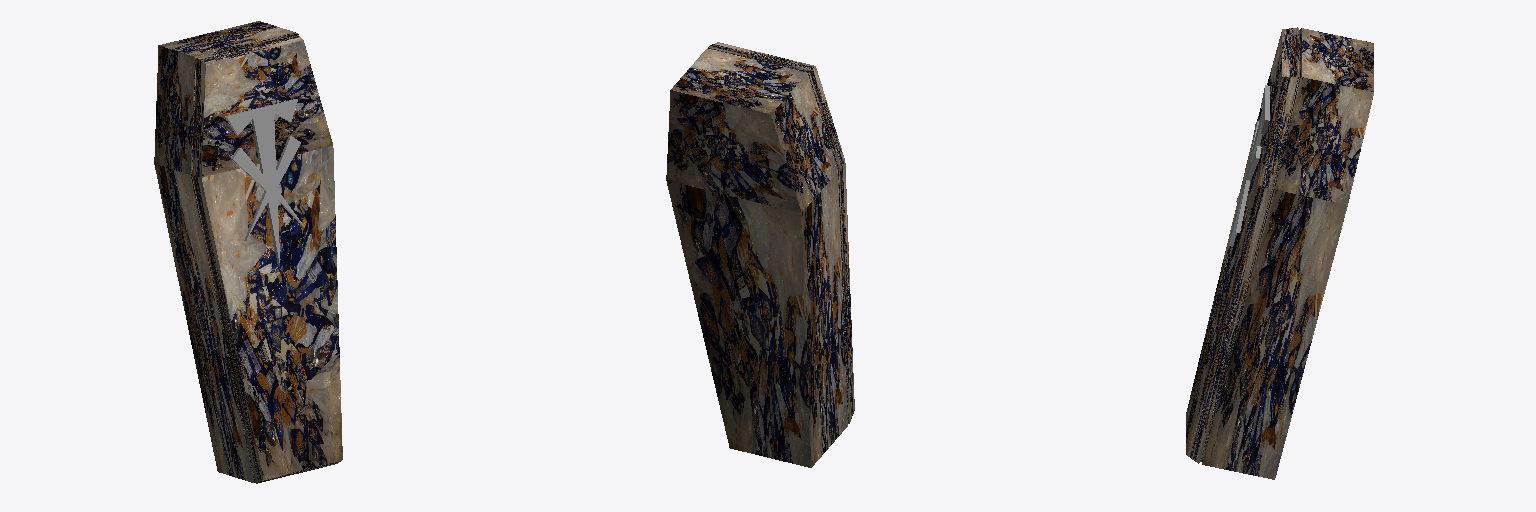
The picture shows the model from 3 angles: view 1: azimuth 30°, elevation 25°; view 2: azimuth 150°, elevation 25°; view 3: azimuth 270°, elevation 25°; orthographic projection.
Visible parts, largest first — view 1: coffin_Cube.002_Material.003, symbol_Cube.001; view 2: coffin_Cube.002_Material.003; view 3: coffin_Cube.002_Material.003, symbol_Cube.001.
Part boxes in pixels (x1,y1,x2,y2): coffin_Cube.002_Material.003: (154,21,342,483); symbol_Cube.001: (225,99,304,265); coffin_Cube.002_Material.003: (666,42,854,467); coffin_Cube.002_Material.003: (1186,27,1373,479); symbol_Cube.001: (1229,85,1269,246).
Size of the model in its own units: 2.69 by 7.75 by 3.25.
Materials: 2 (1 with a texture image).